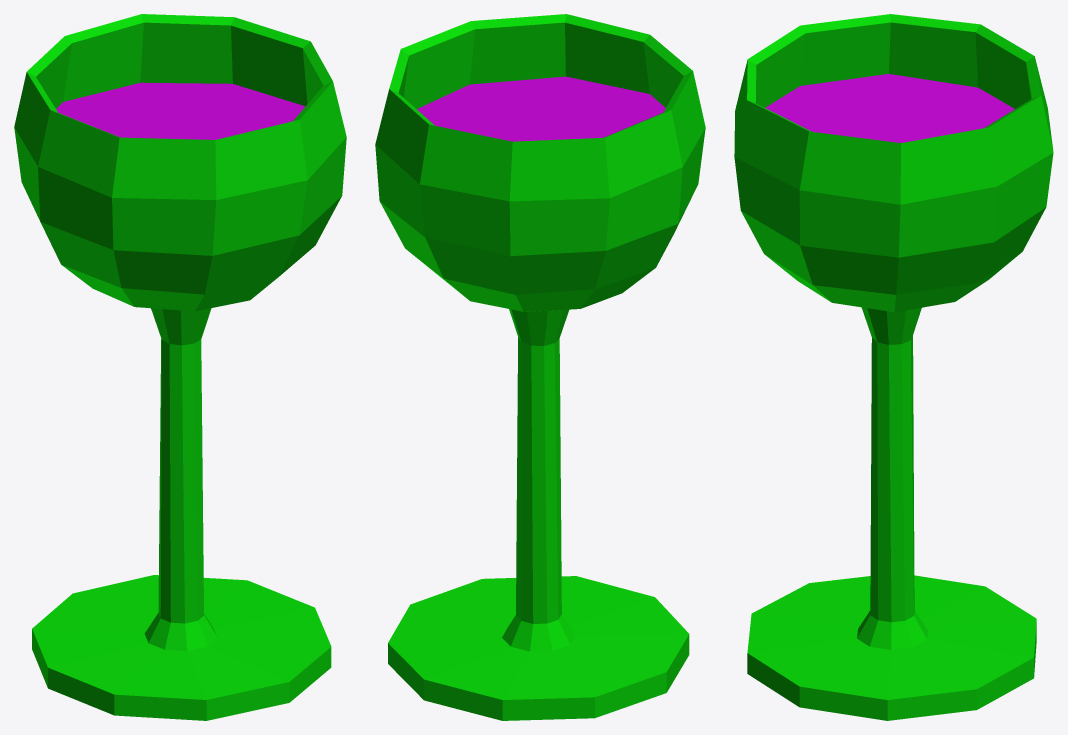
The model's file is copa vinito.fbx.
3 views of the same model, side by side, from view 1: azimuth 30°, elevation 25°; view 2: azimuth 150°, elevation 25°; view 3: azimuth 270°, elevation 25° (orthographic).
Parts seen in each view (by area): view 1: Alcohol 2; view 2: Alcohol 2; view 3: Alcohol 2.
Boxes of the visible parts, x1,y1,x2,y2 form: Alcohol 2: [14, 14, 346, 720]; Alcohol 2: [375, 14, 705, 720]; Alcohol 2: [734, 14, 1053, 720].
Bounding box in the file's own units: 0.3372 × 0.6491 × 0.3241.
